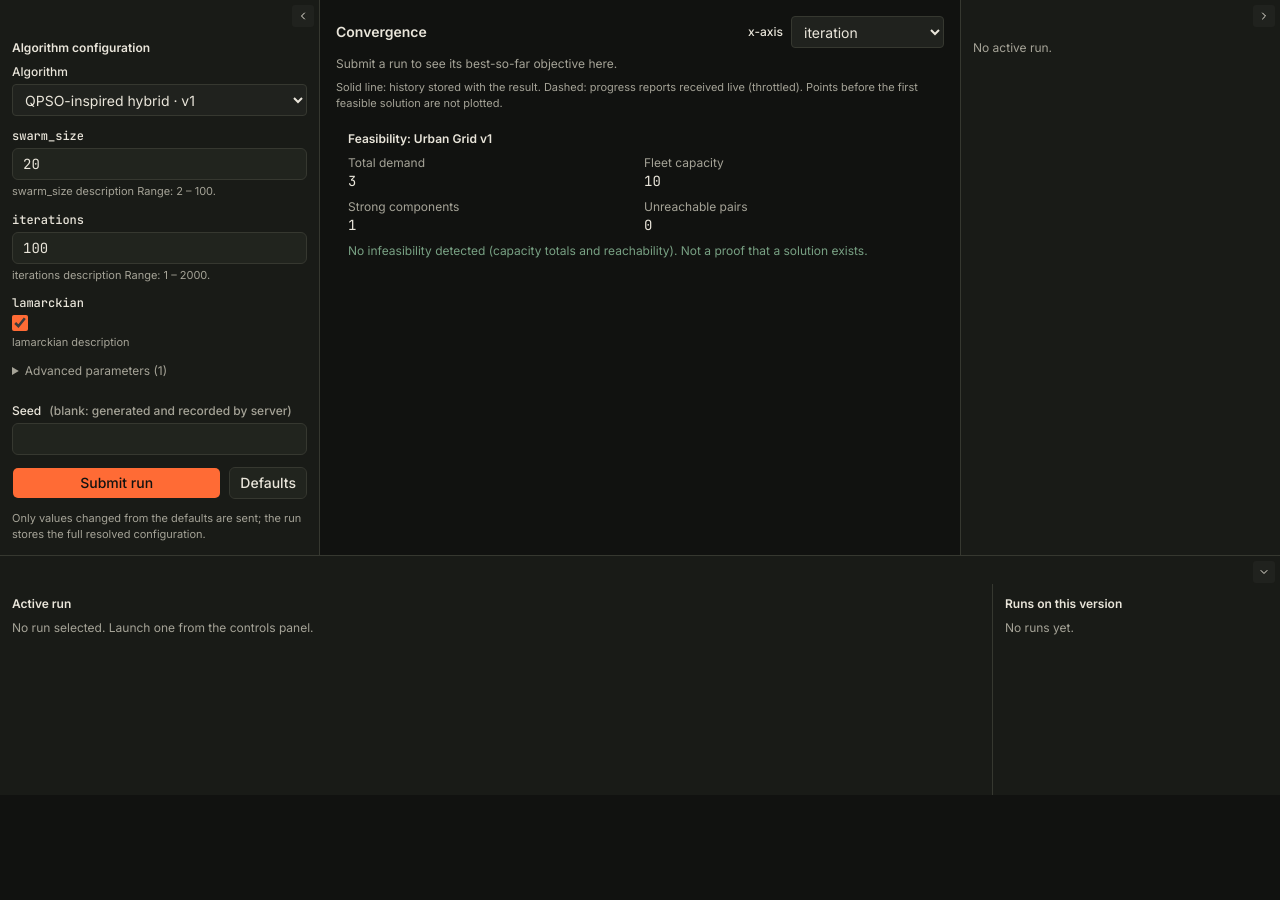
Algorithm Lab › submits only changed parameters and shows feasibility from the server
Check: the text "No infeasibility detected" is shown, box [348,243,868,258]
Replace the text in the number field labelled "iterations" with "40" at (160, 248), box [12,232,307,264]
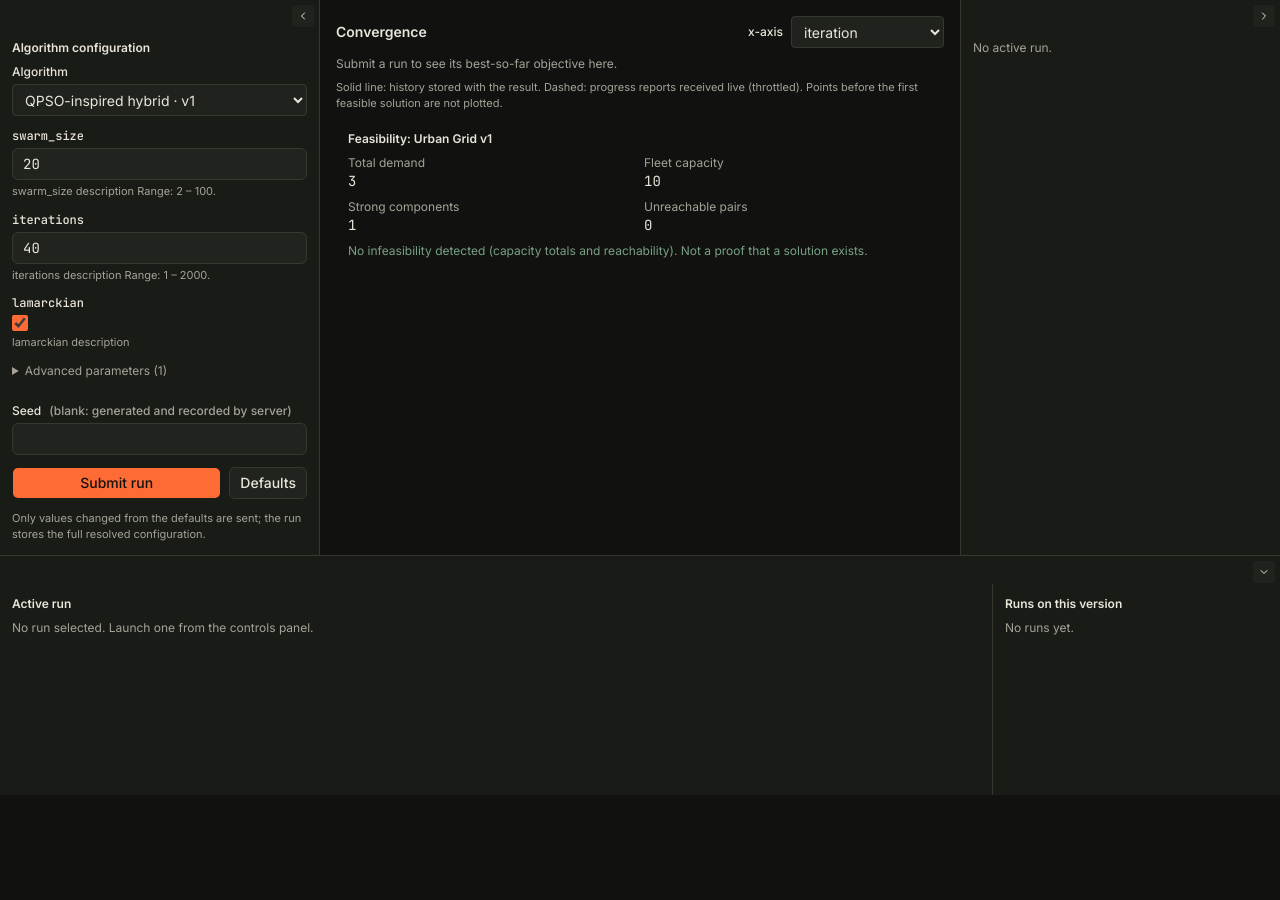
Type "5" into the field labelled "Seed (blank: generated and recorded by server)".
click(160, 439); type("5")  # box [12,423,307,455]
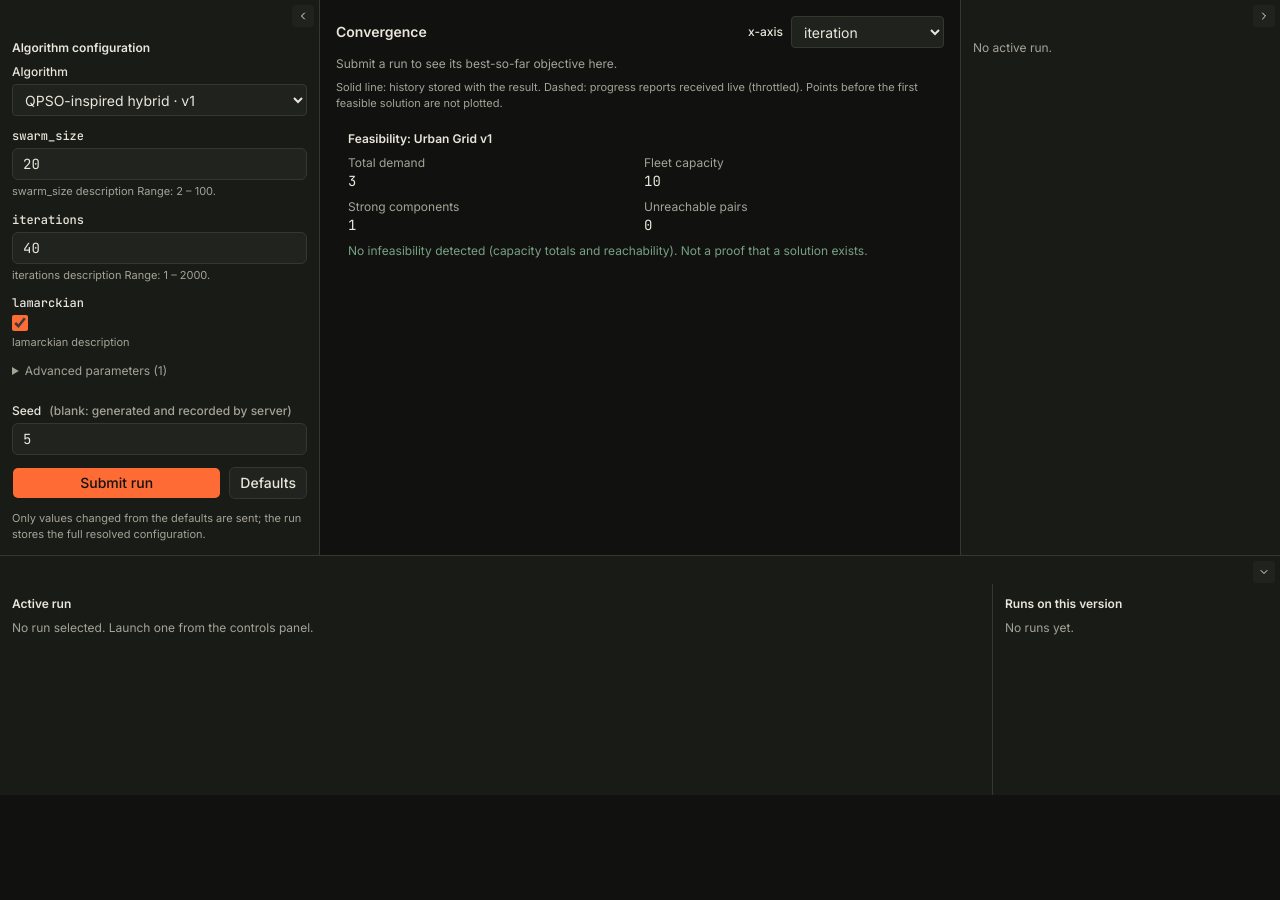
Click the button "Submit run".
click(117, 483)  # box [12,467,221,499]
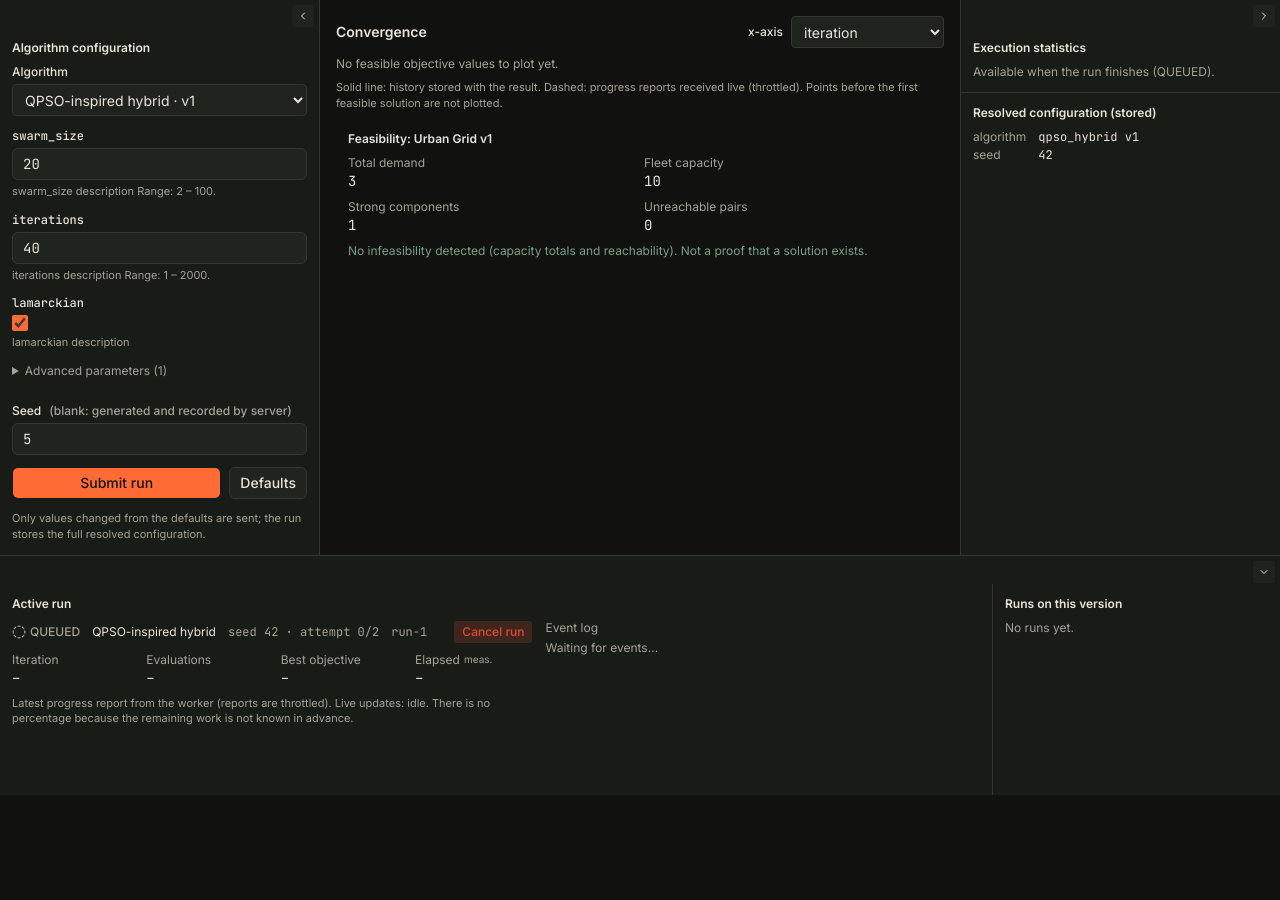
Check: the text "run-1" is shown, box [391,624,427,640]
